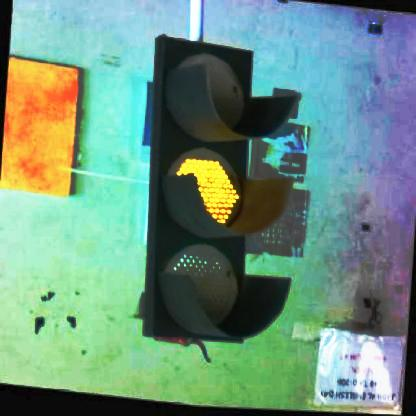Traffic Light -Yellow-: (136, 38, 308, 350)
